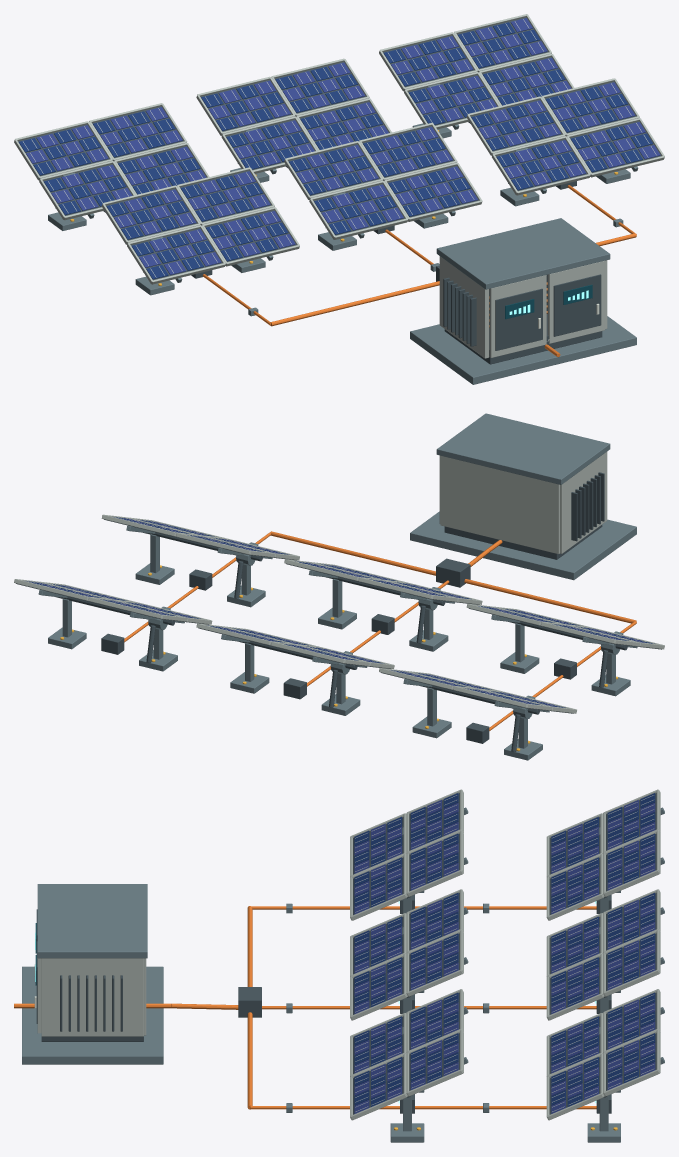
The model's file is solar_power_complex_d0.glb.
3 renders of one model, top to bottom at view 1: azimuth 30°, elevation 25°; view 2: azimuth 150°, elevation 25°; view 3: azimuth 270°, elevation 25°, orthographic. The views are drawn at different scales.
Visible parts, largest first — view 1: Inverter roof, Power station foundation, Door inset.001, Door inset, Inverter armored side, Inverter access door, Inverter access door.001, Collection cable trunk, Inverter chassis, PV backing.003, PV backing.007, PV backing.010 (+21 smaller); view 2: Inverter rear armor, Inverter roof, Power station foundation, Inverter armored side, Collection cable trunk, Inverter chassis, Array combiner box; view 3: Inverter roof, Inverter armored side.001, Power station foundation, Collection cable trunk, Array collection cable.002, Array collection cable, Array collection cable.001, Array combiner box, Inverter chassis, Rack anchor footing.005, Rack anchor footing.011.
Boxes of the visible parts, bbox=[...] form: Inverter roof: bbox=[436, 218, 610, 289]; Power station foundation: bbox=[410, 316, 636, 384]; Door inset.001: bbox=[553, 274, 601, 336]; Door inset: bbox=[495, 288, 542, 350]; Inverter armored side: bbox=[439, 256, 488, 358]; Inverter access door: bbox=[489, 275, 546, 357]; Inverter access door.001: bbox=[547, 260, 604, 343]; Collection cable trunk: bbox=[270, 233, 636, 326]; Inverter chassis: bbox=[444, 314, 602, 364]; PV backing.003: bbox=[180, 170, 271, 222]; PV backing.007: bbox=[362, 126, 453, 177]; PV backing.010: bbox=[570, 121, 661, 172]; Inverter rear armor: bbox=[440, 456, 559, 554]; Inverter roof: bbox=[436, 413, 610, 484]; Power station foundation: bbox=[410, 511, 636, 580]; Inverter armored side: bbox=[560, 452, 607, 553]; Collection cable trunk: bbox=[270, 531, 636, 623]; Inverter chassis: bbox=[444, 525, 602, 559]; Array combiner box: bbox=[436, 558, 470, 587]; Inverter roof: bbox=[37, 884, 147, 958]; Inverter armored side.001: bbox=[41, 958, 143, 1036]; Power station foundation: bbox=[22, 966, 163, 1064]; Collection cable trunk: bbox=[247, 906, 252, 1109]; Array collection cable.002: bbox=[250, 1106, 596, 1109]; Array collection cable: bbox=[252, 906, 596, 909]; Array collection cable.001: bbox=[262, 1006, 596, 1009]; Array combiner box: bbox=[238, 987, 261, 1017]; Inverter chassis: bbox=[41, 1036, 143, 1041]; Rack anchor footing.005: bbox=[390, 1123, 424, 1142]; Rack anchor footing.011: bbox=[587, 1123, 620, 1142].
Size of the model in its own units: 16.88 by 2.86 by 16.54.
